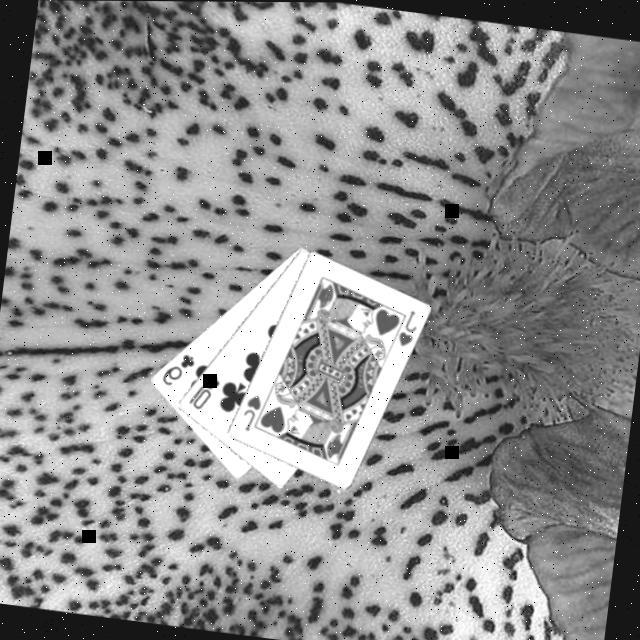10C: (184, 371, 223, 416)
6C: (158, 349, 199, 393)
JH: (394, 307, 421, 351), (238, 392, 264, 436)
